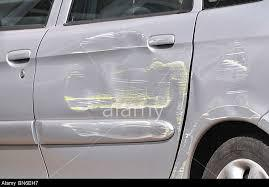doorouter-dent: (47, 22, 195, 154)
